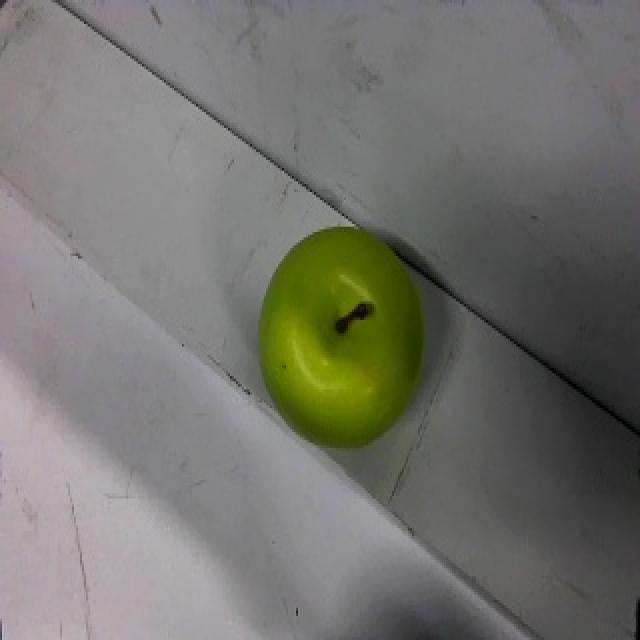apple: (256, 222, 428, 452)
